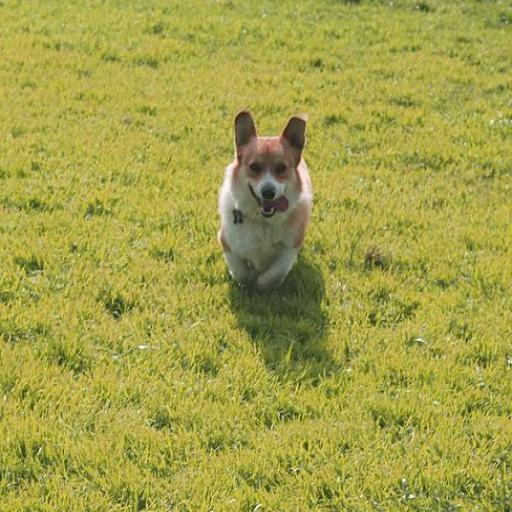dog_face: (231, 108, 306, 222)
